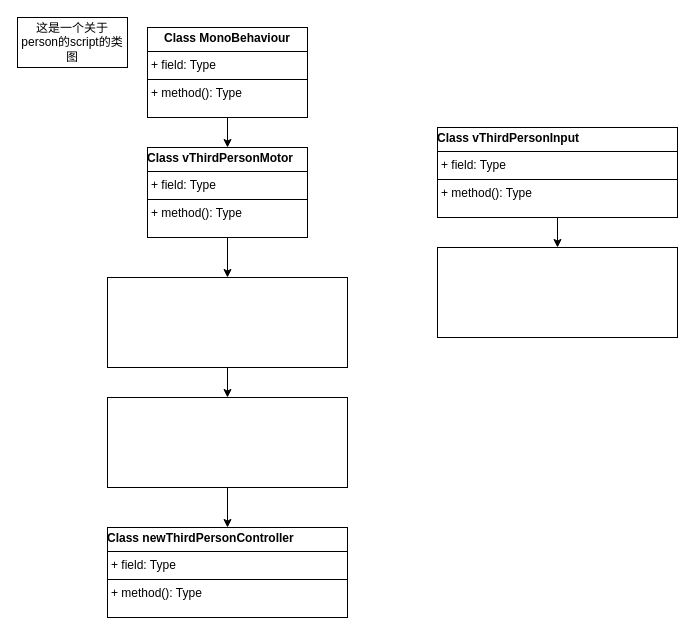
Some shapes in this 695 by 635 pixel diagram are drawn without their labels. Each missing label, with the box of its shape:
Class newThirdPersonInput + field: Type + method(): Type: (436, 246, 678, 338)
Class vThirdPersonAnimator + field: Type + method(): Type: (106, 276, 348, 368)
Class vThirdPersonController + field: Type + method(): Type: (106, 396, 348, 488)
